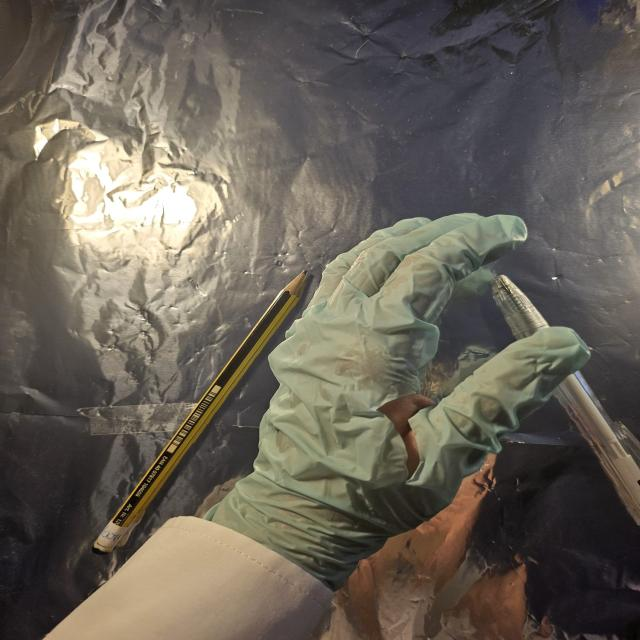gloves_damaged: (197, 209, 594, 587)
